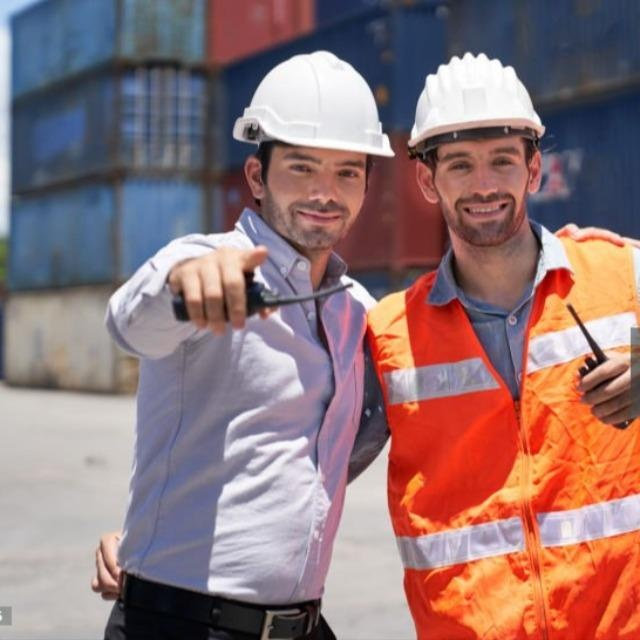Con_Casco: (232, 47, 396, 251), (414, 49, 544, 246)
Con_Chaleco: (381, 249, 640, 635)
Sin_Chaleco: (115, 236, 370, 592)
